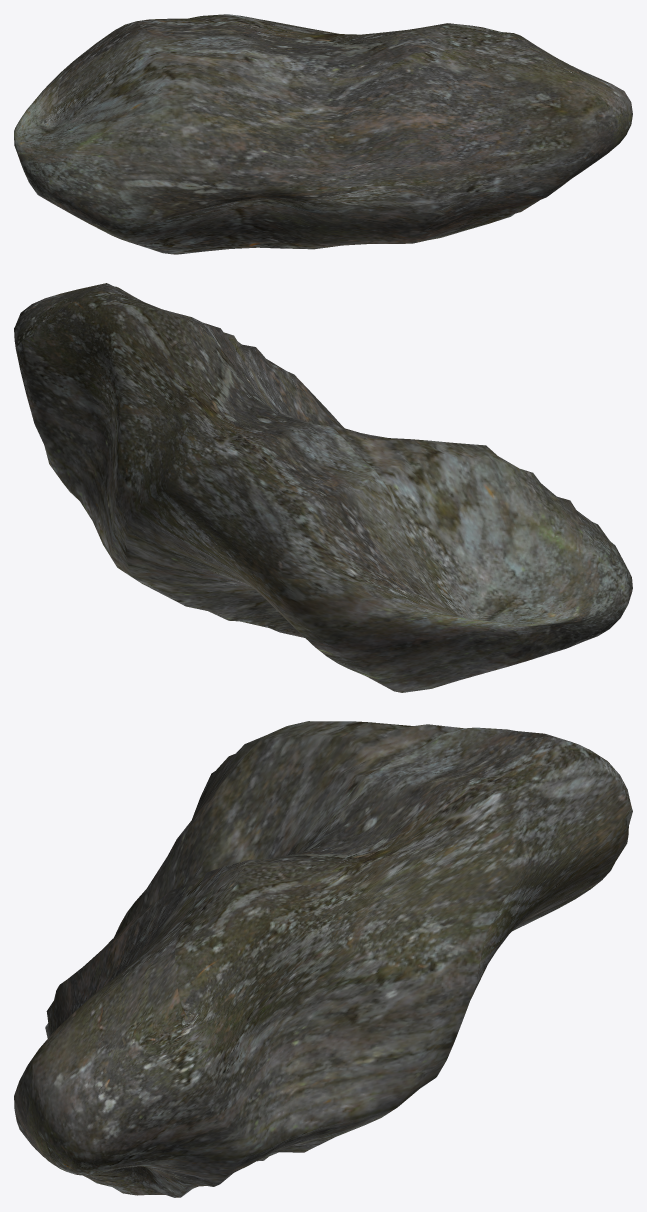
Rendered from M_Rock.fbx.
3 renders of one model, top to bottom at view 1: azimuth 30°, elevation 25°; view 2: azimuth 150°, elevation 25°; view 3: azimuth 270°, elevation 25°, orthographic. The views are drawn at different scales.
Visible parts, largest first — view 1: Cube; view 2: Cube; view 3: Cube.
Part boxes in pixels (left/top/right/bottom): Cube: left=14, top=14, right=632, bottom=254; Cube: left=14, top=283, right=632, bottom=692; Cube: left=14, top=721, right=632, bottom=1197.
Bounding box in the file's own units: 422 × 147 × 266.
Materials: 1 (1 with a texture image).
